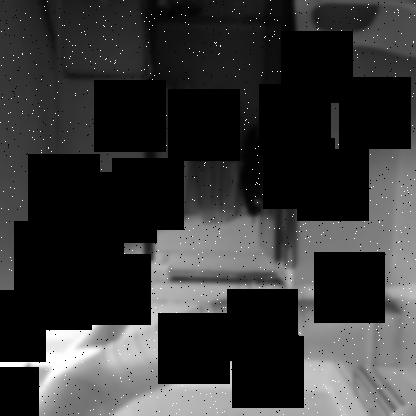Porte: (138, 1, 304, 271)
